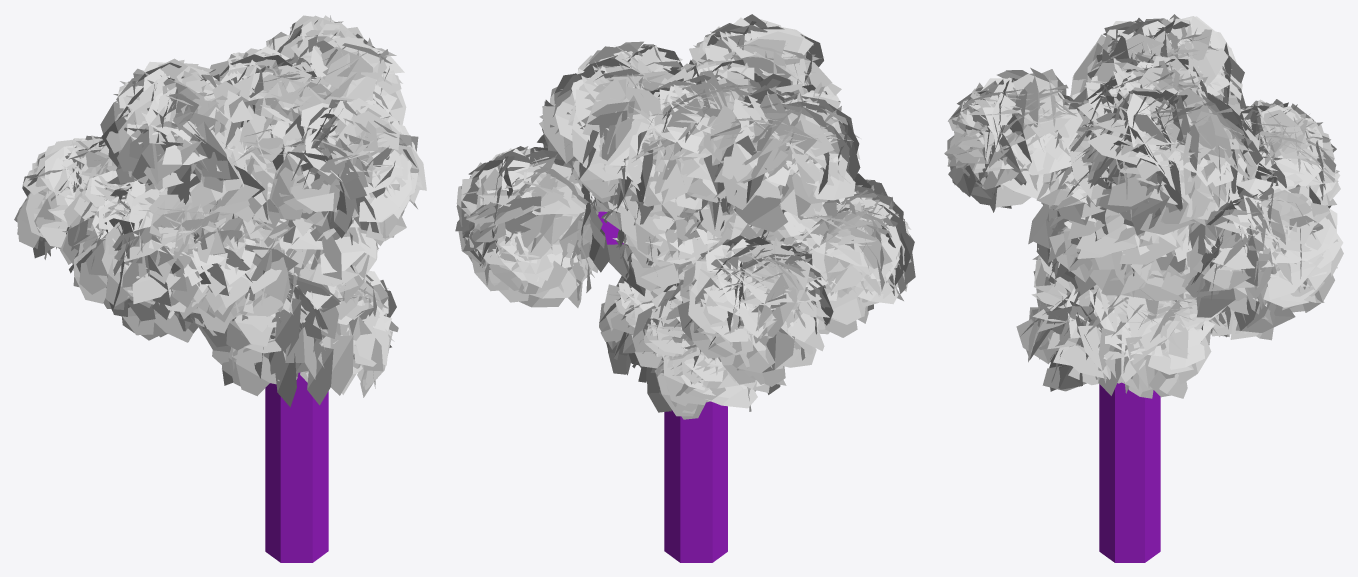
File: tree.fbx
3 renders of one model, left to right at view 1: azimuth 30°, elevation 25°; view 2: azimuth 150°, elevation 25°; view 3: azimuth 270°, elevation 25°, orthographic. The views are drawn at different scales.
Parts seen in each view (by area): view 1: Tree Branch.222; view 2: Tree Branch.222; view 3: Tree Branch.222.
Boxes of the visible parts, x1,y1,x2,y2 form: Tree Branch.222: (14, 15, 426, 562); Tree Branch.222: (455, 14, 915, 562); Tree Branch.222: (944, 14, 1343, 562).
Size of the model in its own units: 7185 by 8999 by 6731.
